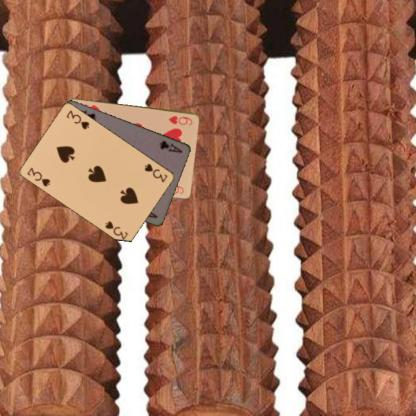3s: (142, 160, 169, 184), (25, 164, 52, 188)
6h: (166, 113, 193, 127)
Ac: (157, 138, 184, 154)
